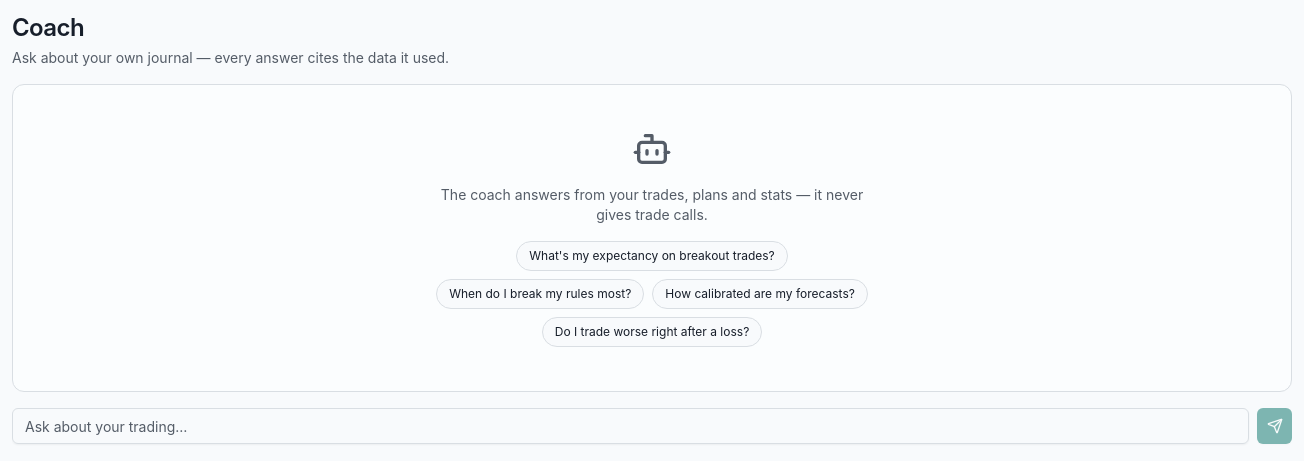
Test: CoachChatPage offline state › shows the offline card when the server reports no LLM
Note: Starter questions are offered before any conversation.
Click the button "What's my expectancy on breakout trades?": x=652, y=256 x1=516 y1=241 x2=788 y2=271
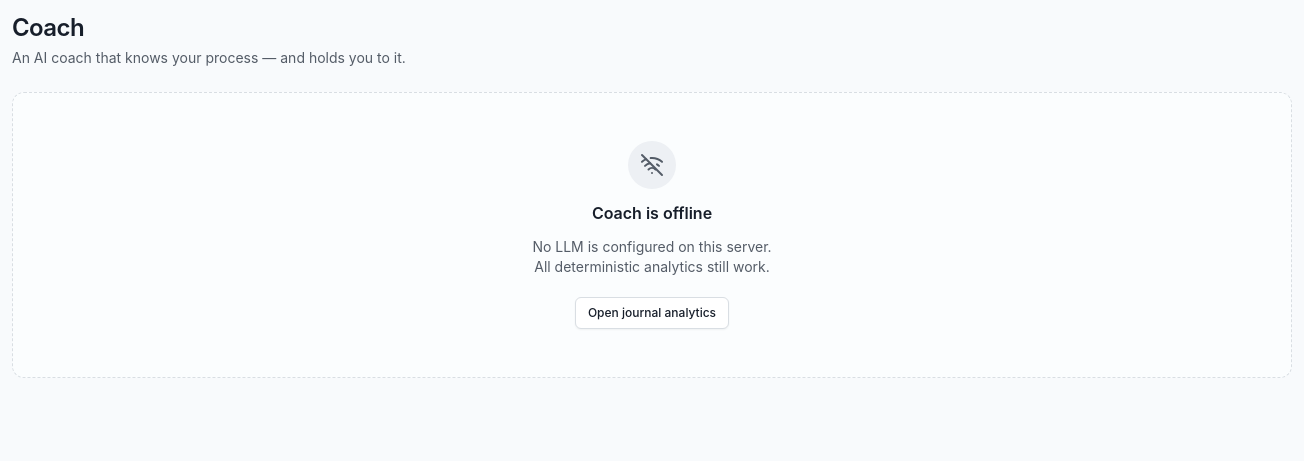
Check: the heading "Coach is offline" is shown, box x1=592 y1=201 x2=712 y2=225
Check: the text "No LLM is configured" is shown, box x1=532 y1=238 x2=772 y2=275
Check: the link "Open journal analytics" is shown, box x1=575 y1=297 x2=729 y2=329
